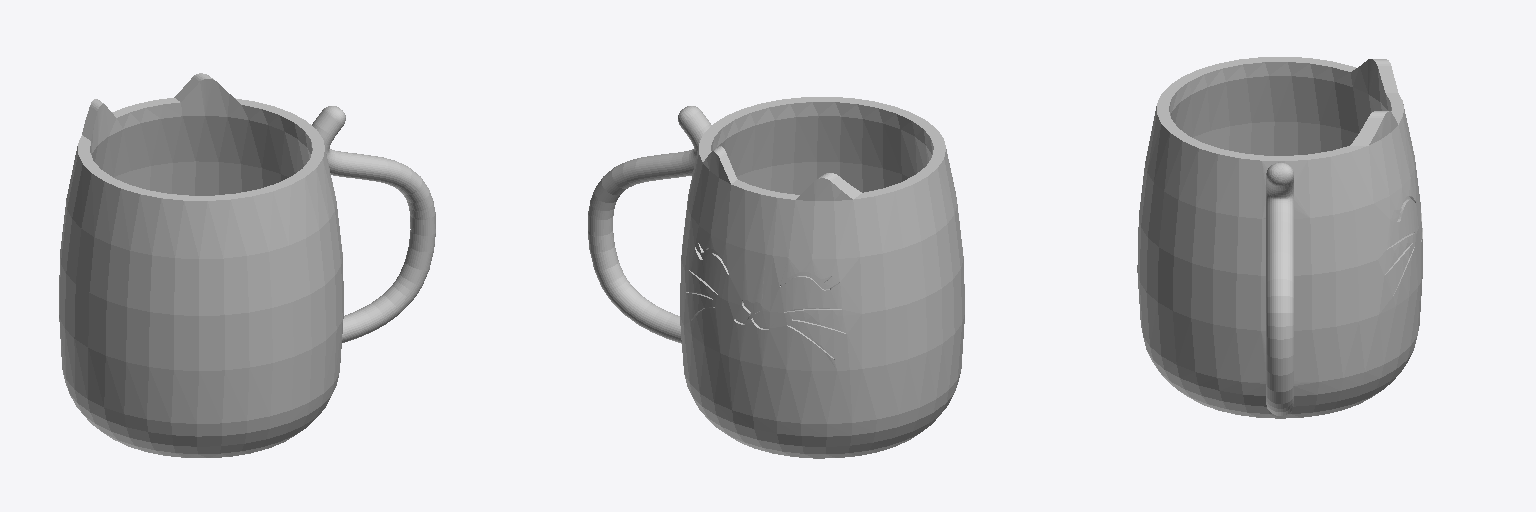
File: caneca.obj
The picture shows the model from 3 angles: view 1: azimuth 30°, elevation 25°; view 2: azimuth 150°, elevation 25°; view 3: azimuth 270°, elevation 25°; orthographic projection.
Visible parts, largest first — view 1: caneca; view 2: caneca; view 3: caneca.
Part boxes in pixels (bbox=[...]): caneca: bbox=[59, 73, 435, 457]; caneca: bbox=[588, 97, 964, 458]; caneca: bbox=[1137, 57, 1422, 418].
Bounding box in the file's own units: 3.52 × 2.71 × 2.44.